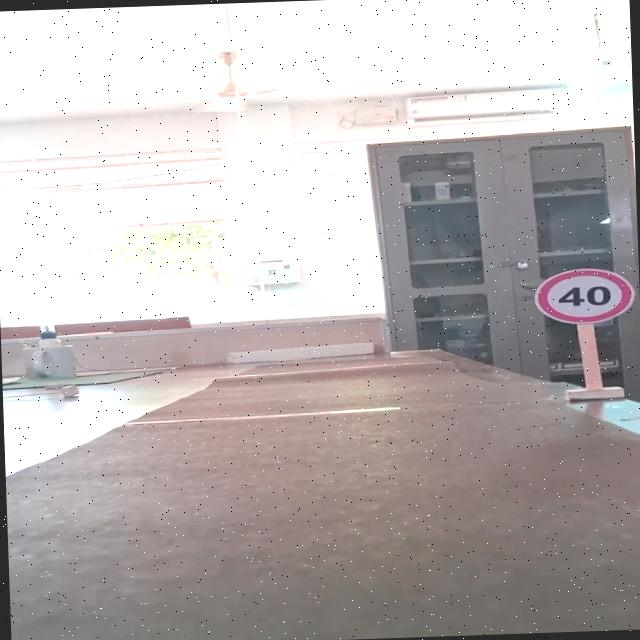Speed40: (528, 264, 640, 328)
